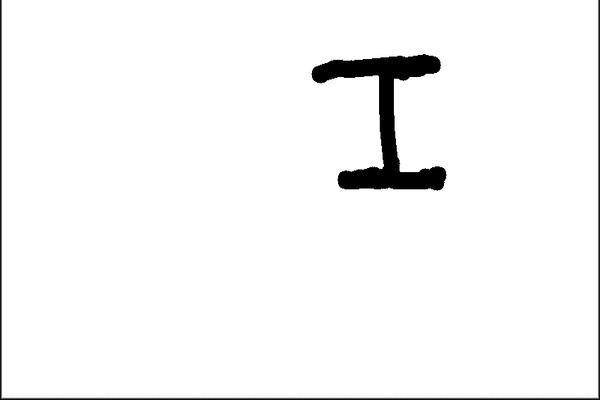i: (298, 46, 454, 192)
